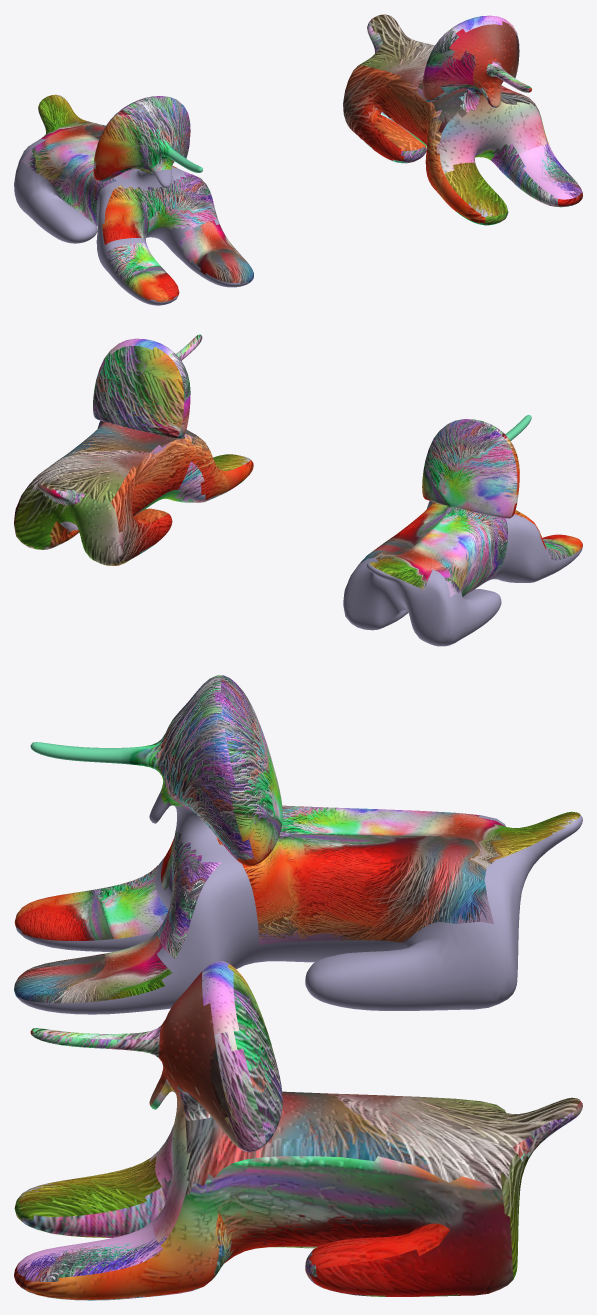
Rendered from Sphinx_Texture_New.fbx.
The picture shows the model from 3 angles, top to bottom: view 1: azimuth 30°, elevation 25°; view 2: azimuth 150°, elevation 25°; view 3: azimuth 270°, elevation 25°; orthographic projection. The views are drawn at different scales.
Visible parts, largest first — view 1: sphinx_v2_simplified:Mesh, sphinx_v2_simplified:Mesh.001; view 2: sphinx_v2_simplified:Mesh.001, sphinx_v2_simplified:Mesh; view 3: sphinx_v2_simplified:Mesh.001, sphinx_v2_simplified:Mesh.
Part boxes in pixels (box(x1,y1,x2,y2)): sphinx_v2_simplified:Mesh: box(14, 94, 253, 305); sphinx_v2_simplified:Mesh.001: box(343, 14, 582, 225); sphinx_v2_simplified:Mesh.001: box(14, 334, 253, 565); sphinx_v2_simplified:Mesh: box(343, 415, 582, 646); sphinx_v2_simplified:Mesh.001: box(14, 961, 582, 1300); sphinx_v2_simplified:Mesh: box(14, 675, 582, 1014).
Size of the model in its own units: 7209 by 2520 by 4486.
Materials: 1 (1 with a texture image).
